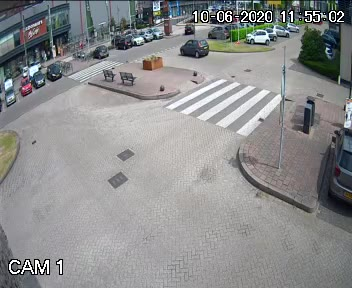car: (177, 36, 208, 59), (183, 22, 196, 36)
